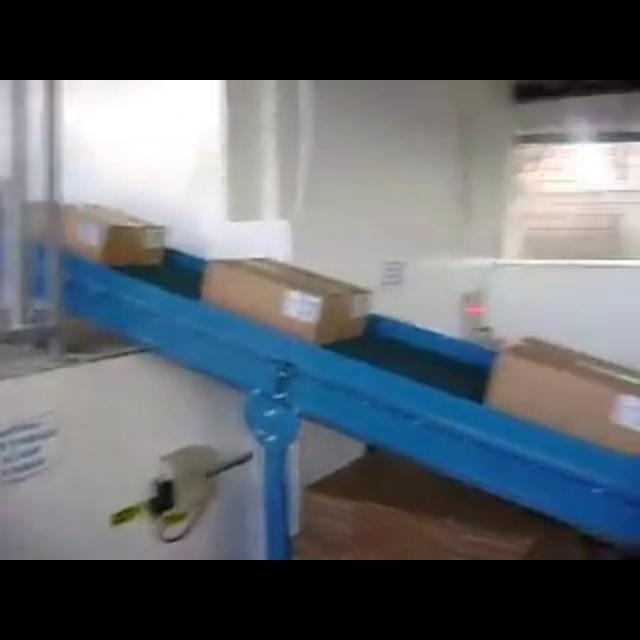Box: (482, 333, 640, 461), (198, 240, 374, 348), (46, 194, 170, 272)
